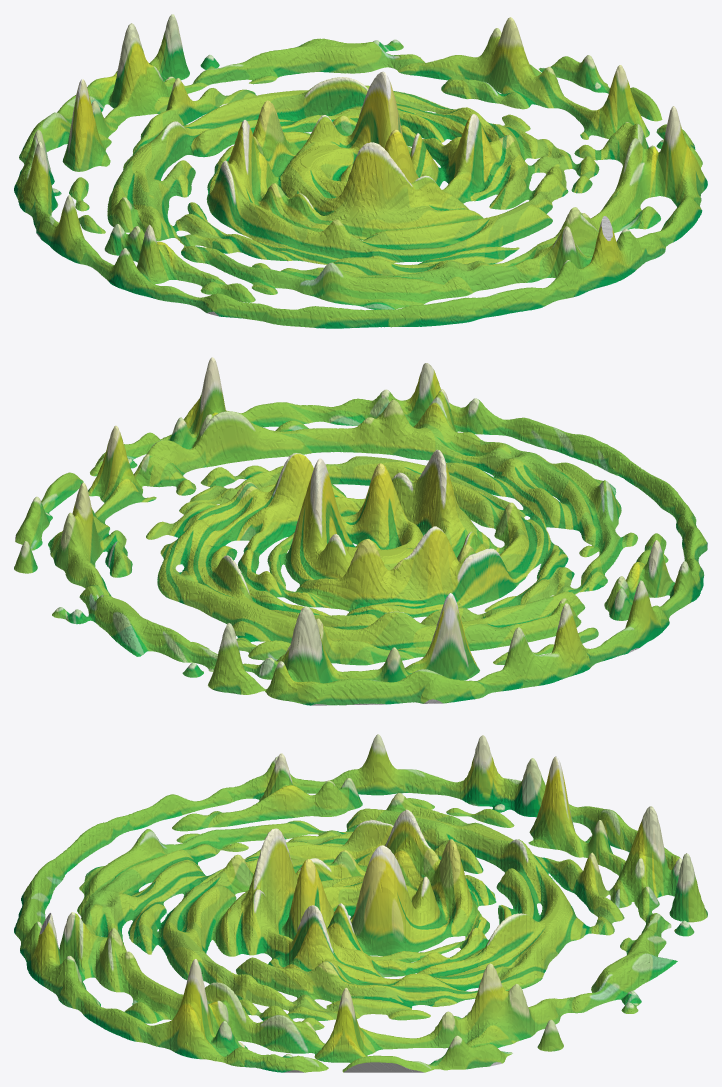
File: green portal.glb
The picture shows the model from 3 angles, top to bottom: view 1: azimuth 30°, elevation 25°; view 2: azimuth 150°, elevation 25°; view 3: azimuth 270°, elevation 25°; orthographic projection.
Size of the model in its own units: 0.1287 by 0.0203 by 0.1288.
Materials: 1 (1 with a texture image).
